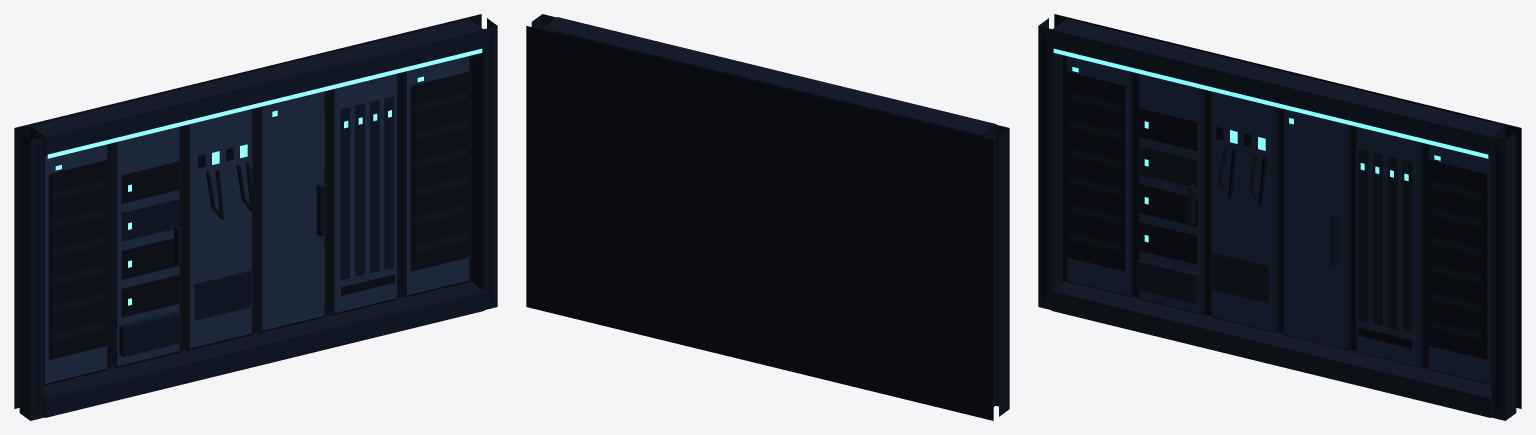
File: RackFacade_V06.fbx
3 renders of one model, left to right at view 1: azimuth 30°, elevation 25°; view 2: azimuth 150°, elevation 25°; view 3: azimuth 330°, elevation 25°, orthographic.
Parts seen in each view (by area): view 1: KIT_RackFacade_V06_Mesh; view 2: KIT_RackFacade_V06_Mesh; view 3: KIT_RackFacade_V06_Mesh.
Boxes of the visible parts, bbox=[...] form: KIT_RackFacade_V06_Mesh: bbox=[14, 14, 497, 420]; KIT_RackFacade_V06_Mesh: bbox=[526, 14, 1009, 420]; KIT_RackFacade_V06_Mesh: bbox=[1038, 14, 1521, 420].
Bounding box in the file's own units: 4 × 2.3 × 0.2645.
